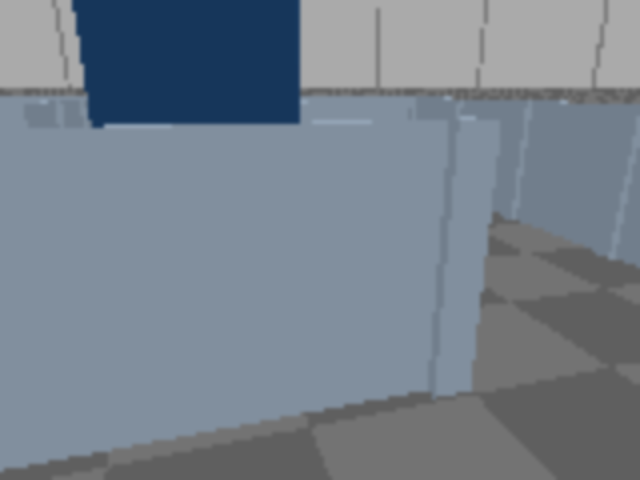person: (0, 0, 301, 332)
